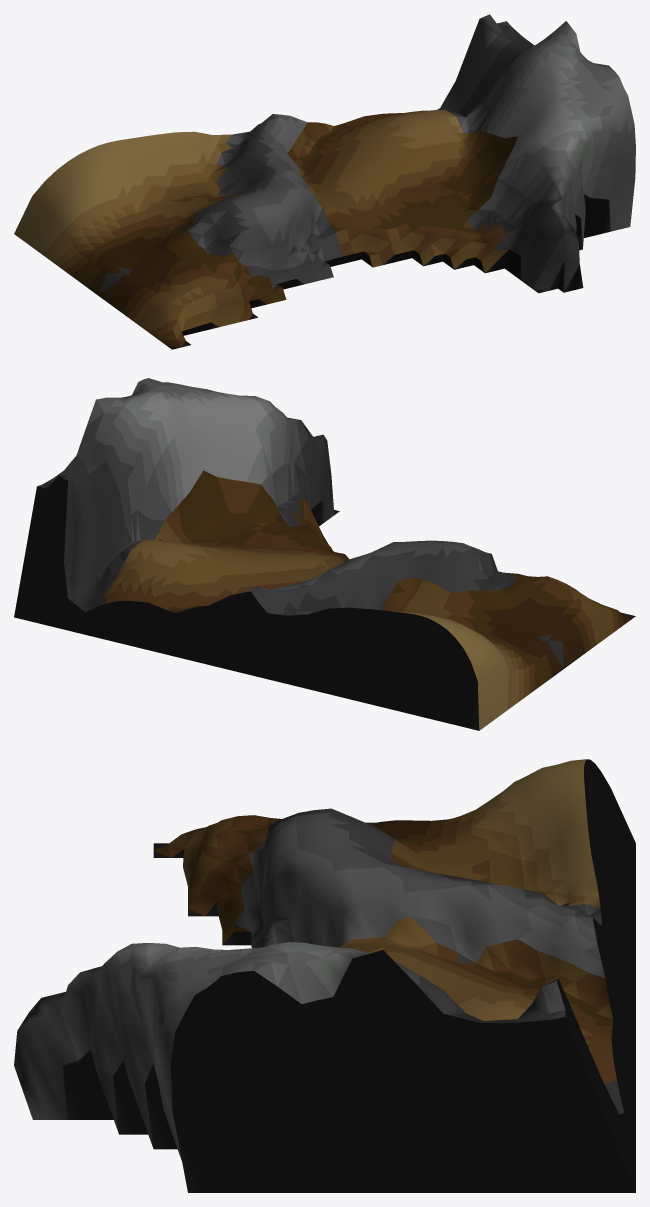
File: rock_machine_bl_damaged.glb
3 renders of one model, top to bottom at view 1: azimuth 30°, elevation 25°; view 2: azimuth 150°, elevation 25°; view 3: azimuth 270°, elevation 25°, orthographic. The views are drawn at different scales.
Parts seen in each view (by area): view 1: rock_machine_bl_damaged; view 2: rock_machine_bl_damaged; view 3: rock_machine_bl_damaged.
Boxes of the visible parts, box(x1,y1,x2,y2) form: rock_machine_bl_damaged: box(14, 14, 635, 349); rock_machine_bl_damaged: box(14, 378, 635, 730); rock_machine_bl_damaged: box(14, 759, 635, 1192).
Size of the model in its own units: 24 by 7.78 by 18.05.
